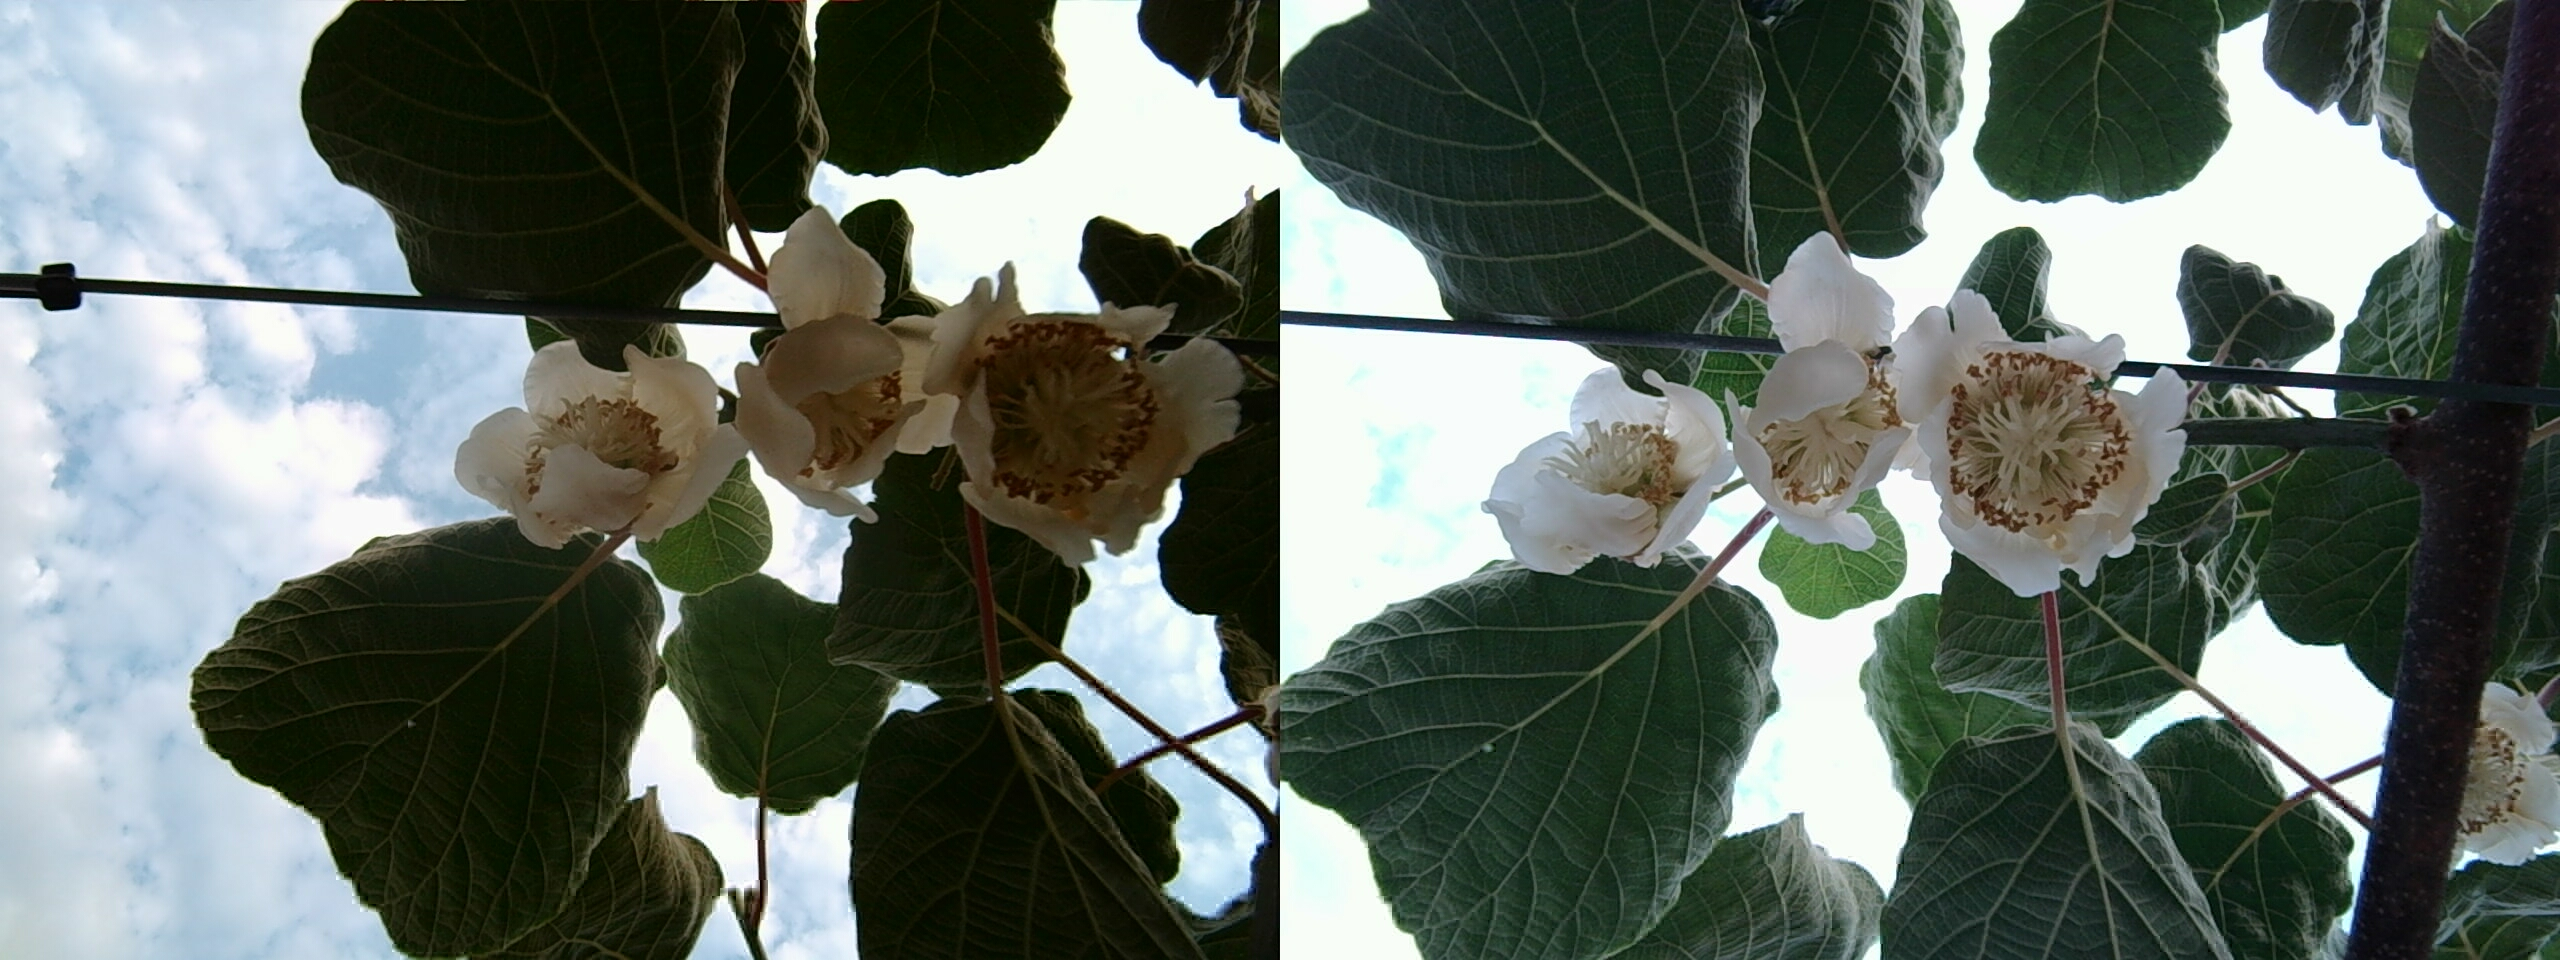flower: (926, 282, 1238, 555), (1905, 310, 2180, 589), (459, 340, 718, 549), (1491, 361, 1726, 570), (730, 310, 944, 509), (1722, 330, 1917, 540), (2459, 661, 2558, 877), (1755, 232, 1894, 367)
